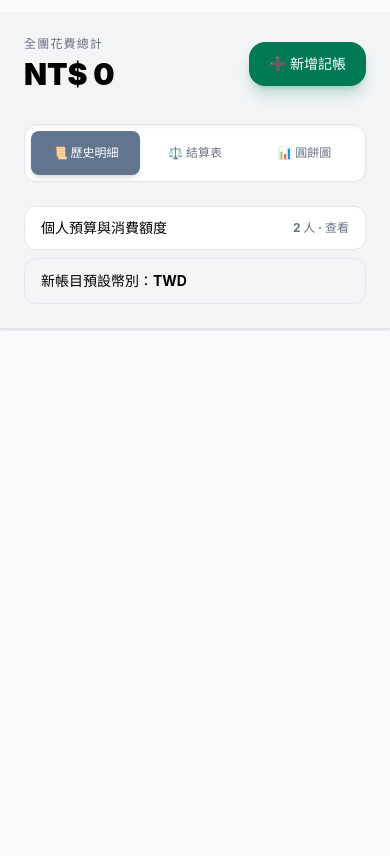
Scenario: ExpenseSection › 金額或幣別改變後不沿用舊 paid 狀態
Click the button with test id "expense-settlement-view-button": (195, 153) [140, 131, 250, 175]
(page scrolled)
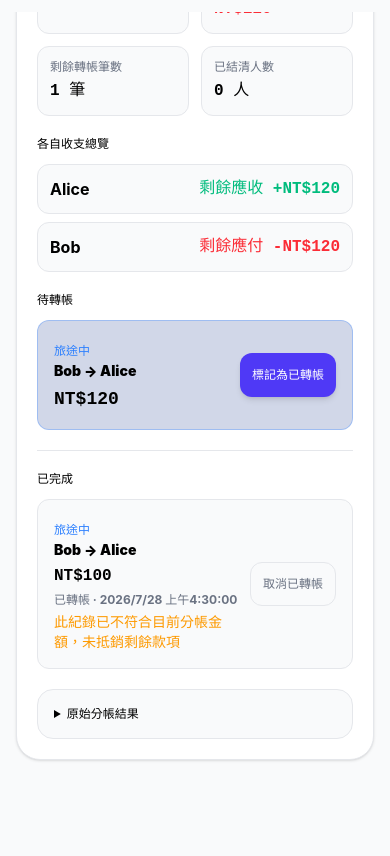
Check: the number of elements with test id "pending-settlement-transfer" is 1, box [37, 320, 353, 430]
Check: the element with test id "completed-settlement-transfer" shows "NT$100", box [54, 567, 112, 585]
Check: the element with test id "completed-settlement-transfer" shows "未抵銷剩餘款項", box [54, 613, 222, 650]
